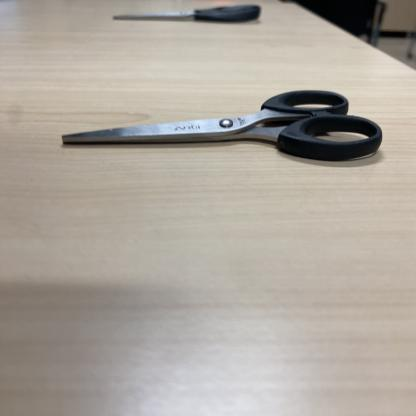scissors: (61, 89, 385, 162), (110, 3, 264, 25)
